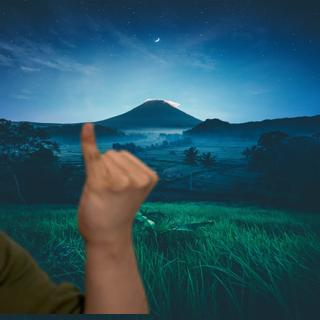FINE: (73, 121, 162, 251)
